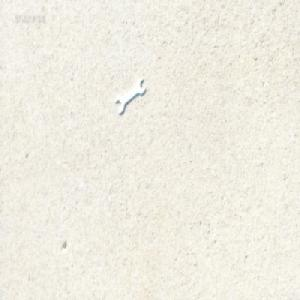Wrench: (115, 78, 145, 114)
